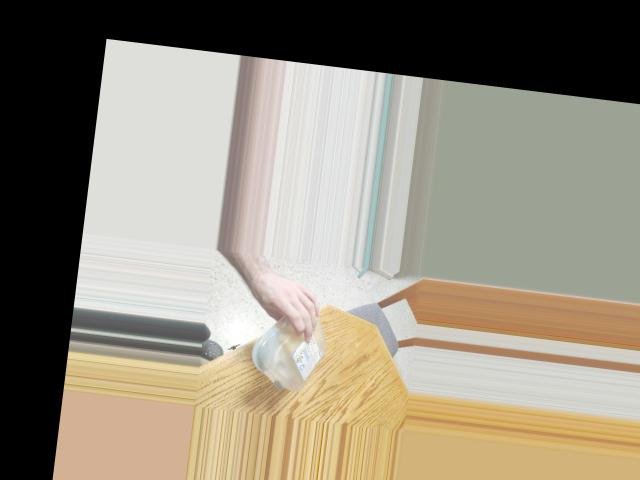cheese: (249, 295, 335, 397)
